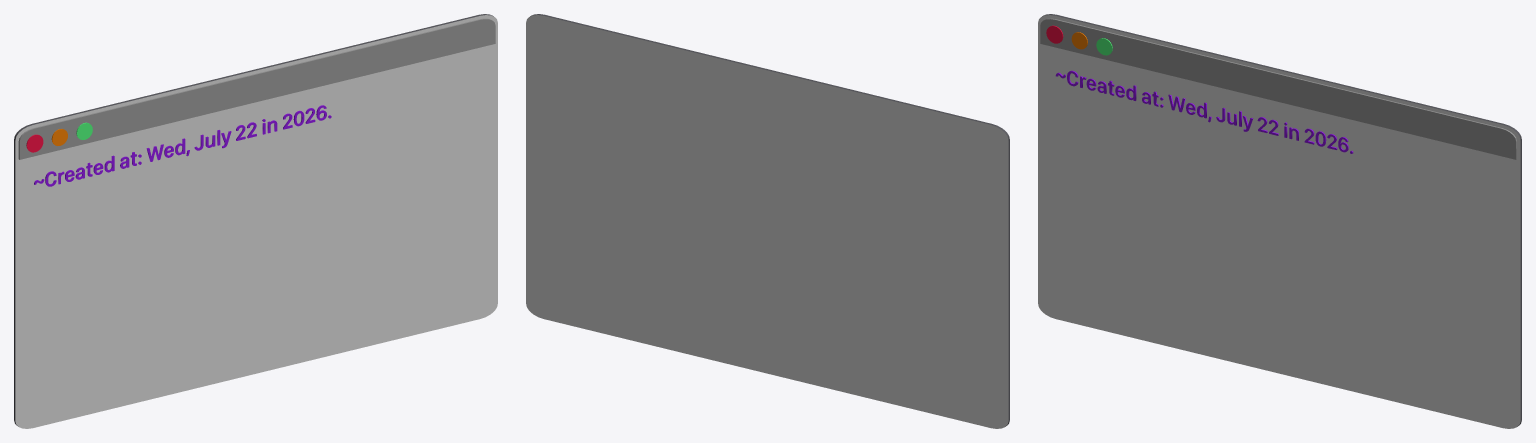
File: lightTerminal.glb
3 renders of one model, left to right at view 1: azimuth 30°, elevation 25°; view 2: azimuth 150°, elevation 25°; view 3: azimuth 330°, elevation 25°, orthographic.
Parts seen in each view (by area): view 1: Plane, Text; view 2: Plane; view 3: Plane, Text.
Boxes of the visible parts, bbox=[...] form: Plane: bbox=[14, 14, 497, 428]; Text: bbox=[34, 105, 331, 186]; Plane: bbox=[526, 14, 1009, 428]; Plane: bbox=[1038, 14, 1521, 428]; Text: bbox=[1055, 70, 1353, 153].
Size of the model in its own units: 2.37 by 1.42 by 0.0256.
